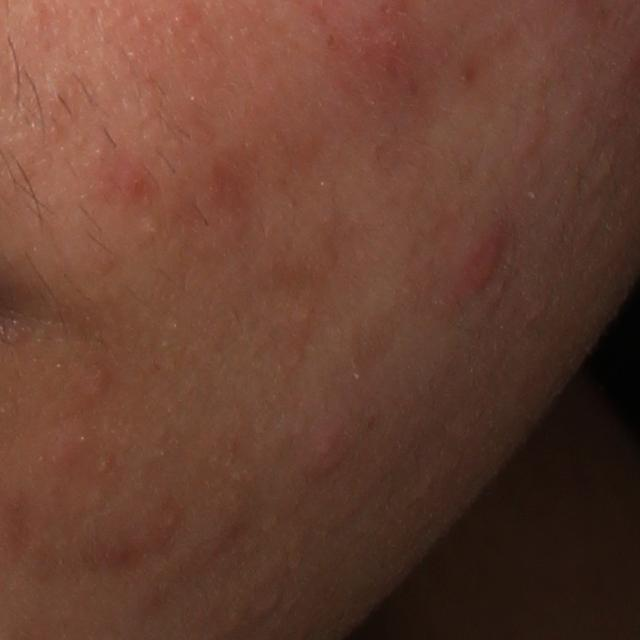comedo: (140, 216, 161, 243)
papule: (447, 229, 504, 302), (295, 424, 352, 484), (77, 367, 105, 399)
